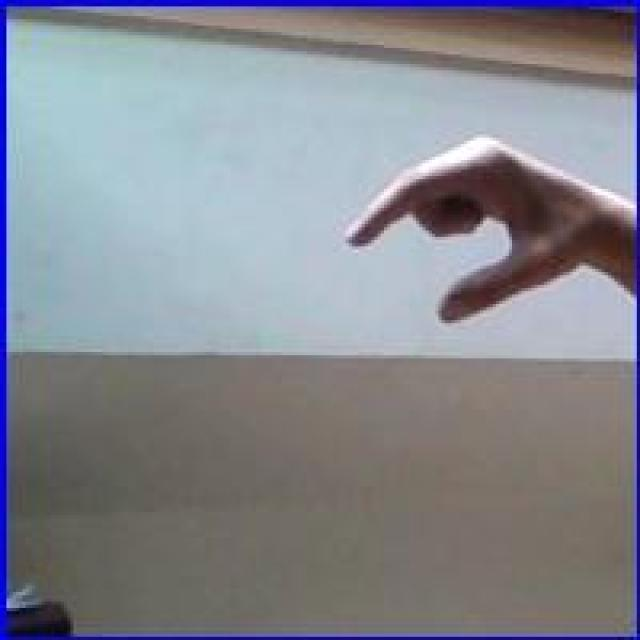Q: (338, 128, 596, 326)
